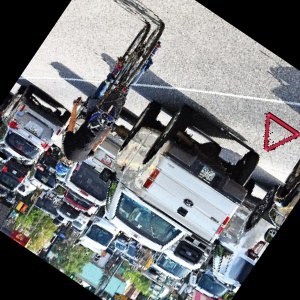triangle: (262, 110, 300, 153)
